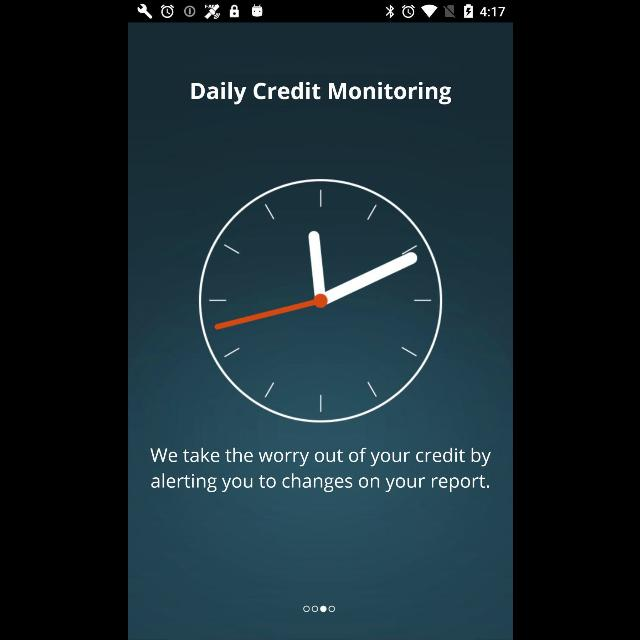image: (198, 178, 442, 424)
pageindicator: (302, 606, 334, 612)
text: (150, 447, 490, 493), (191, 82, 451, 105)
uppertaskbar: (128, 1, 512, 23)
